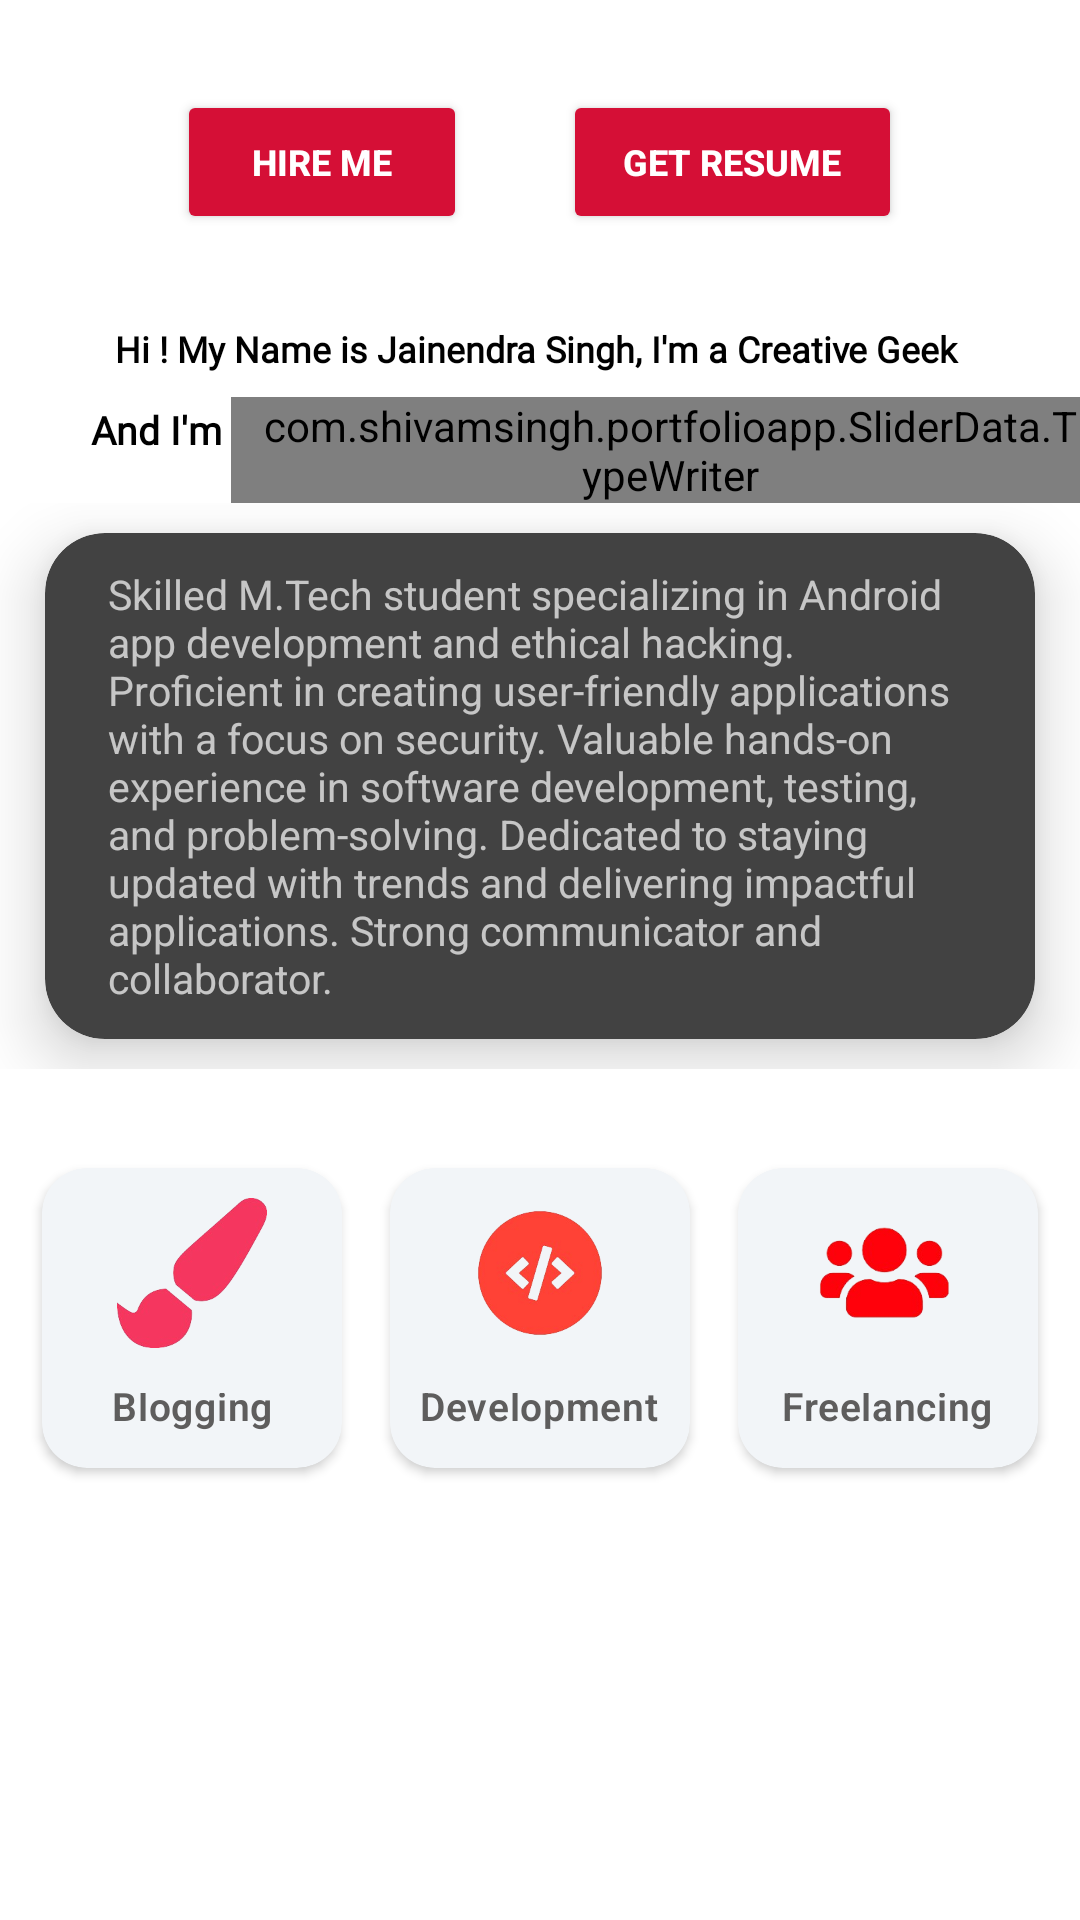

Screen size 1080 × 1920. Icon name, then its center in pixels as point (x, y):
code: point (540, 1273)
paintbrush: point (192, 1273)
